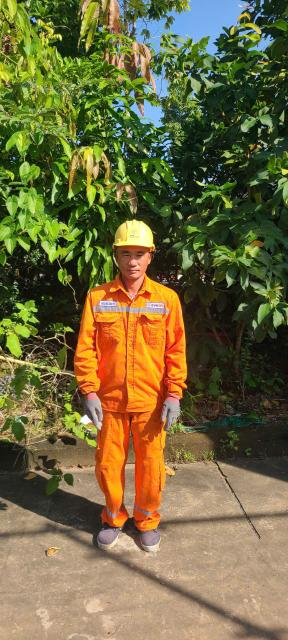gloves: (68, 369, 107, 435), (158, 391, 194, 435)
helmet: (99, 214, 169, 258)
shoes: (94, 518, 133, 561), (132, 514, 163, 560)
